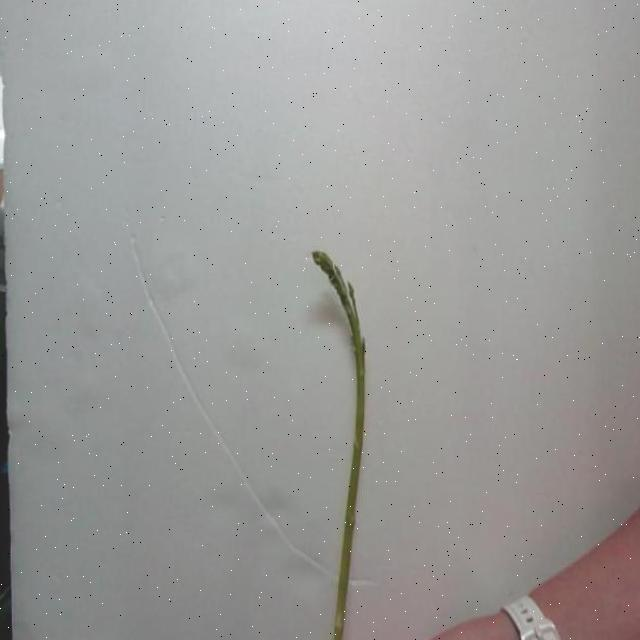aspargus: (308, 251, 365, 640)
